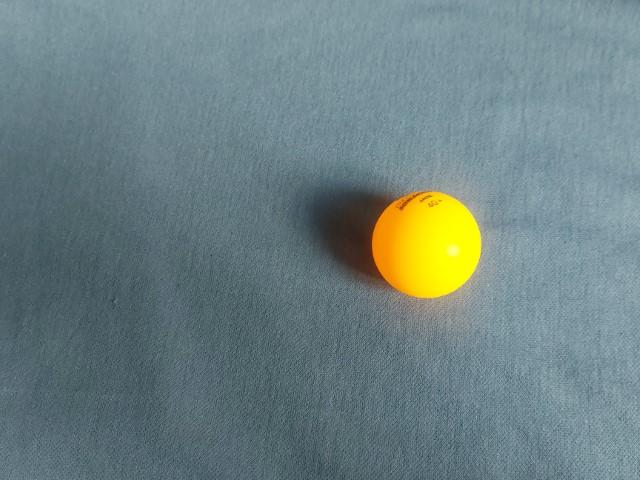oball: (152, 177, 272, 296)
